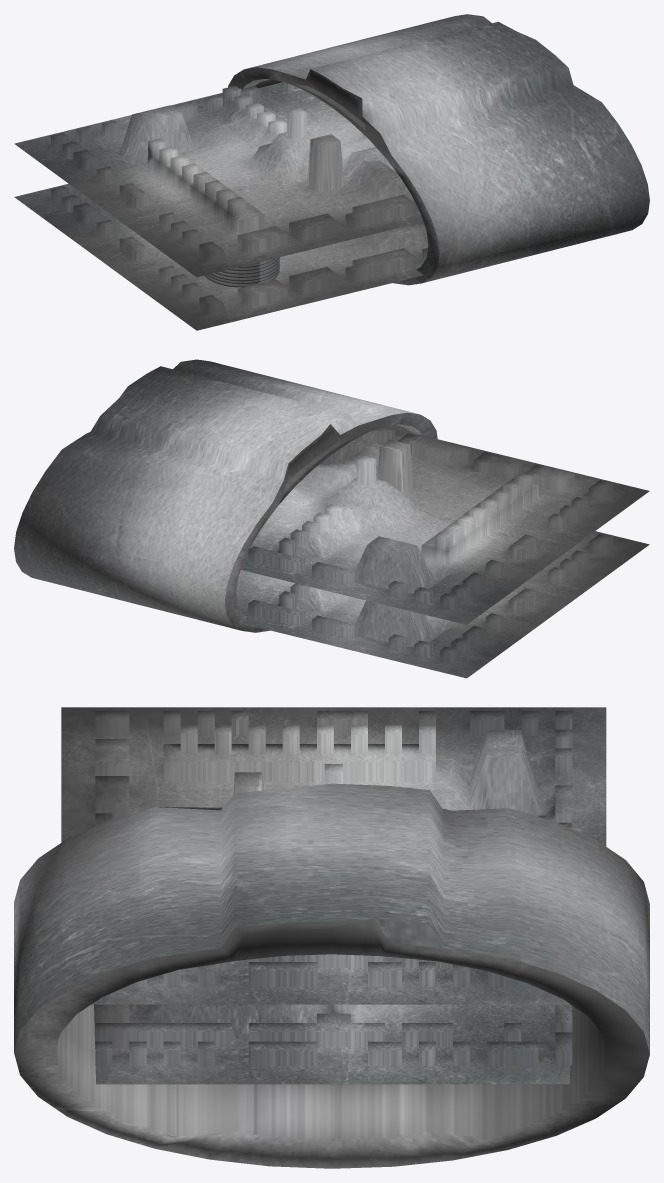
Rendered from pieza6.fbx.
3 renders of one model, top to bottom at view 1: azimuth 30°, elevation 25°; view 2: azimuth 150°, elevation 25°; view 3: azimuth 270°, elevation 25°, orthographic. The views are drawn at different scales.
Parts seen in each view (by area): view 1: Cylinder.067; view 2: Cylinder.067; view 3: Cylinder.067.
Part boxes in pixels (x1,y1,x2,y2): Cylinder.067: [14, 14, 649, 330]; Cylinder.067: [14, 359, 649, 678]; Cylinder.067: [14, 707, 649, 1168].
Bounding box in the file's own units: 277 × 98.85 × 233.
17 materials, 17 textured.
